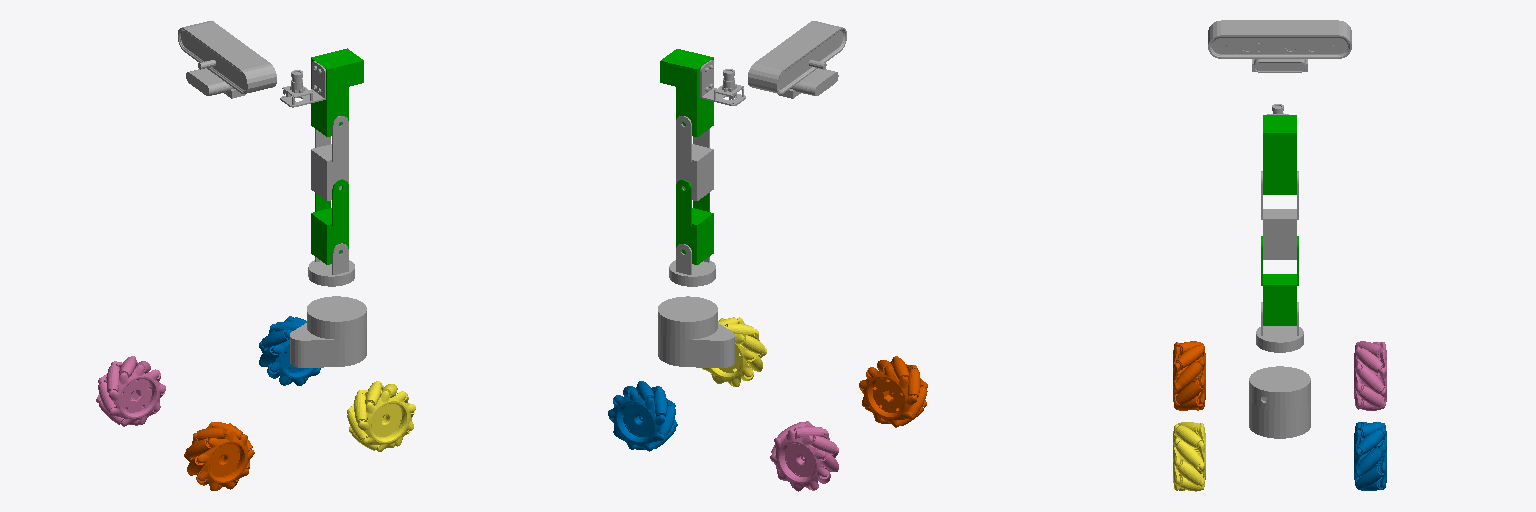
The robot description file, URDF, robot "x3plus":
<?xml version="1.0" encoding="utf-8"?>
   <robot name="x3plus">
    <link name="base_footprint"/>
    <link name="imu_link"/>
    <link name="base_link">
        <inertial>
            <origin xyz="-0.0304416859098744 4.23384368655101E-05 0.0448234503408059" rpy="0 0 0"/>
            <mass value="1.0754239466482"/>
            <inertia
                    ixx="0.0208831789264125"
                    ixy="2.4618093127858E-06"
                    ixz="0.00616019290028669"
                    iyy="0.0265621377486244"
                    iyz="-1.10079499865282E-06"
                    izz="0.0129535610833954"/>
        </inertial>
        <visual>
            <origin xyz="0 0 0" rpy="0 0 0"/>
            <geometry>
                <mesh filename="package://meshes/X3plus/visual/base_link_wo_wheels.obj"/>
            </geometry>
            <material name="">
                <color rgba="0 0.7 0 1"/>
            </material>
        </visual>
        <collision>
          <origin xyz="0 0 0" rpy="0 0 0"/>
          <geometry>
            <box size="0.2942 0.2253 0.4460"/>
          </geometry>
        </collision>

    </link>
    <joint name="base_joint" type="fixed">
        <parent link="base_footprint"/>
        <child link="base_link"/>
        <origin xyz="0.0 0.0 0.076" rpy="0 0 0"/>
    </joint>
    <joint name="base_imu" type="fixed">
        <parent link="base_link"/>
        <child link="imu_link"/>
        <origin xyz="0.001 0.017 0.0322" rpy="0 3.1415 1.5707"/>
    </joint>
    <link name="front_right_wheel">
        <inertial>
            <origin xyz="1.9051E-06 -2.3183E-07 -0.00064079" rpy="0 0 0"/>
            <mass value="0.051532"/>
            <inertia ixx="1.4595E-05" ixy="-4.3975E-10" ixz="4.415E-10"
                     iyy="1.4594E-05" iyz="-1.7476E-09" izz="2.4264E-05"/>
        </inertial>
        <visual>
          <origin xyz="0 0 0" rpy="0 0 0"/>
          <geometry>
            <mesh filename="package://meshes/X3plus/visual/front_right_wheel.obj"/>
          </geometry>
        </visual>
        
        <collision>
          <origin xyz="0 0 0" rpy="0 0 0"/>
          <geometry>
            <box size="0.0799 0.0374 0.0801"/>
          </geometry>
        </collision>
    </link>
    <joint name="front_right_joint" type="fixed">
        <origin xyz="0.10528 -0.10401 -0.038935" rpy="-0 0 0"/>
        <parent link="base_link"/>
        <child link="front_right_wheel"/>
        <axis xyz="0 1 0" rpy="0 0 0"/>
        <limit effort="100" velocity="1"/>
    </joint>
    <link name="front_left_wheel">
        <inertial>
            <origin xyz="2.3728E-06 -9.4228E-07 0.00064068" rpy="0 0 0"/>
            <mass value="0.051543"/>
            <inertia ixx="1.4597E-05" ixy="-4.7945E-10" ixz="-2.4786E-10"
                     iyy="1.4598E-05" iyz="1.7972E-09" izz="2.4267E-05"/>
        </inertial>
        <visual>
          <origin xyz="0 0 0" rpy="0 0 0"/>
          <geometry>
            <mesh filename="package://meshes/X3plus/visual/front_left_wheel.obj"/>
          </geometry>
        </visual>
        
        <collision>
          <origin xyz="0 0 0" rpy="0 0 0"/>
          <geometry>
            <box size="0.0800 0.0374 0.0799"/>
          </geometry>
        </collision>

    </link>
    <joint name="front_left_joint" type="fixed">
        <origin xyz="0.10537 0.10394 -0.0389" rpy="0 0 0"/>
        <parent link="base_link"/>
        <child link="front_left_wheel"/>
        <axis xyz="0 1 0" rpy="0 0 0"/>
        <limit effort="100" velocity="1"/>
    </joint>
    <link name="back_right_wheel">
        <inertial>
            <origin xyz="-1.75924169923403E-06 1.28388821071107E-06 -0.000590549296238266" rpy="0 0 0"/>
            <mass value="0.051540174053366"/>
            <inertia ixx="1.45974152250002E-05" ixy="1.94850559178397E-10" ixz="-1.61846387282284E-09"
                     iyy="1.4596501955693E-05" iyz="-6.27904057423818E-10" izz="2.42663091380451E-05"/>
        </inertial>
        <visual>
          <origin xyz="0 0 0" rpy="0 0 0"/>
          <geometry>
            <mesh filename="package://meshes/X3plus/visual/back_right_wheel.obj"/>
          </geometry>
        </visual>
        
        <collision>
          <origin xyz="0 0 0" rpy="0 0 0"/>
          <geometry>
            <box size="0.0800 0.0374 0.0800"/>
          </geometry>
        </collision>
    </link>
    <joint name="back_right_joint" type="fixed">
        <origin xyz="-0.11466 -0.10394 -0.039515" rpy="0 0 0"/>
        <parent link="base_link"/>
        <child link="back_right_wheel"/>
        <axis xyz="0 1 0" rpy="0 0 0"/>
        <limit effort="100" velocity="1"/>
    </joint>
    <link name="back_left_wheel">
        <inertial>
            <origin xyz="-4.01213085227115E-07 2.04910264598596E-06 0.000590775697051377" rpy="0 0 0"/>
            <mass value="0.0515309299357028"/>
            <inertia ixx="1.45942986129926E-05" ixy="-3.19787215398093E-10" ixz="1.74943062058915E-09"
                     iyy="1.45948727598913E-05" iyz="1.61769812110049E-10" izz="2.4263683888153E-05"/>
        </inertial>
        <visual>
          <origin xyz="0 0 0" rpy="0 0 0"/>
          <geometry>
            <mesh filename="package://meshes/X3plus/visual/back_left_wheel.obj"/>
          </geometry>
        </visual>
        
        <collision>
          <origin xyz="0 0 0" rpy="0 0 0"/>
          <geometry>
            <box size="0.0800 0.0374 0.0800"/>
          </geometry>
        </collision>

    </link>
    <joint name="back_left_joint" type="fixed">
        <origin xyz="-0.11459 0.10401 -0.039448" rpy="0 0 0"/>
        <parent link="base_link"/>
        <child link="back_left_wheel"/>
        <axis xyz="0 1 0" rpy="0 0 0"/>
        <limit effort="100" velocity="1"/>
    </joint>
    <link name="camera_link">
        <inertial>
            <origin xyz="-0.00227617338844674 -6.0192031420306E-06 -0.00616567843043764" rpy="0 0 0"/>
            <mass value="0.224346273348015"/>
            <inertia
                    ixx="0.000420259753235012"
                    ixy="2.65423313072081E-08"
                    ixz="-9.20335513714662E-06"
                    iyy="7.89049803518943E-05"
                    iyz="6.08195761013683E-09"
                    izz="0.000414416844201259"/>
        </inertial>
        <visual>
            <origin xyz="0 0 0" rpy="0 0 0"/>
            <geometry>
                <mesh filename="package://meshes/sensor/visual/camera_link.obj"/>
            </geometry>
            <material name="">
                <color rgba="0.7 0.7 0.7 1"/>
            </material>
        </visual>
        <collision>
          <origin xyz="0 0 0" rpy="0 0 0"/>
          <geometry>
            <box size="0.0602 0.1642 0.0527"/>
          </geometry>
        </collision>
    </link>
    <joint name="astra_joint" type="fixed">
        <origin xyz="-0.043645 0 0.41955" rpy="0 0 0"/>
        <parent link="base_link"/>
        <child link="camera_link"/>
    </joint>
    <link name="laser_link">
        <inertial>
            <origin xyz="-0.0193193958962378 0.000338302570666659 -0.01482422577972" rpy="0 0 0"/>
            <mass value="0.0433399617554554"/>
            <inertia
                    ixx="2.03361882296905E-05"
                    ixy="-3.29493708697467E-07"
                    ixz="-9.00810512916648E-06"
                    iyy="4.37540022779682E-05"
                    iyz="-2.16320544253691E-07"
                    izz="4.81888233320734E-05"/>
        </inertial>
        <visual>
            <origin xyz="0 0 0" rpy="0 0 0"/>
            <geometry>
                <mesh filename="package://meshes/sensor/visual/laser_link.obj"/>
            </geometry>
            <material name="">
                <color rgba="0.7 0.7 0.7 1"/>
            </material>
        </visual>
        <collision>
          <origin xyz="0 0 0" rpy="0 0 0"/>
          <geometry>
            <box size="0.0969 0.0708 0.0586"/>
          </geometry>
        </collision>
    </link>
    <joint name="laser_joint" type="fixed">
        <origin xyz="0.10478 0 0.0471" rpy="0 0 0"/>
        <parent link="base_link"/>
        <child link="laser_link"/>
    </joint>

    <link name="arm_link1">
        <inertial>
            <origin xyz="1.99179507982521E-05 -5.98354652829568E-05 0.0114289358828097" rpy="0 0 0"/>
            <mass value="0.0279545499871709"/>
            <inertia
                    ixx="1.19144359314975E-05"
                    ixy="-9.26068510046816E-09"
                    ixz="3.16060516198683E-09"
                    iyy="1.05642517915377E-05"
                    iyz="2.69674403668579E-08"
                    izz="1.49639510661413E-05"/>
        </inertial>
        <visual>
            <origin xyz="0 0 0" rpy="0 0 0"/>
            <geometry>
                <mesh filename="package://meshes/X3plus/visual/arm_link1.obj"/>
            </geometry>
            <material name="">
                <color rgba="0.7 0.7 0.7 1"/>
            </material>
        </visual>
        <collision>
          <origin xyz="0 0 0" rpy="0 0 0"/>
          <geometry>
            <box size="0.055 0.055 0.051"/>
          </geometry>
        </collision>
    </link>
    <joint name="arm_joint1" type="revolute">
        <origin xyz="0.09825 0 0.102" rpy="0 0 0"/>
        <parent link="base_link"/>
        <child link="arm_link1"/>
        <axis xyz="0 0 -1"/>
        <limit lower="-1.5708" upper="1.5708" effort="100" velocity="1"/>
    </joint>
    <link name="arm_link2">
        <inertial>
            <origin xyz="0.024903 -0.0022632 -0.00066663" rpy="0 0 0"/>
            <mass value="0.031605"/>
            <inertia
                    ixx="5.8495E-06"
                    ixy="-8.8092E-07"
                    ixz="1.5336E-07"
                    iyy="2.667E-05"
                    iyz="7.1365E-09"
                    izz="2.4695E-05"/>
        </inertial>
        <visual>
            <origin xyz="0 0 0" rpy="0 0 0"/>
            <geometry>
                <mesh filename="package://meshes/X3plus/visual/arm_link2.obj"/>
            </geometry>
            <material name="">
                <color rgba="0 0.7 0 1"/>
            </material>
        </visual>
        <collision>
          <origin xyz="0 0 0" rpy="0 0 0"/>
          <geometry>
            <box size="0.030 0.108 0.044"/>
          </geometry>
        </collision>
    </link>
    <joint name="arm_joint2" type="revolute">
        <origin xyz="0 0 0.0405" rpy="-1.5708 0 0"/>
        <parent link="arm_link1"/>
        <child link="arm_link2"/>
        <axis xyz="0 0 -1"/>
        <limit lower="-1.5708" upper="1.5708" effort="100" velocity="1"/>
    </joint>
    <link name="arm_link3">
        <inertial>
            <origin xyz="0.024903 -0.0022634 -0.0013962" rpy="0 0 0"/>
            <mass value="0.031605"/>
            <inertia
                    ixx="5.8492E-06"
                    ixy="-8.8063E-07"
                    ixz="1.4331E-07"
                    iyy="2.667E-05"
                    iyz="8.9675E-09"
                    izz="2.4695E-05"/>
        </inertial>
        <visual>
            <origin xyz="0 0 0" rpy="0 0 0"/>
            <geometry>
                <mesh filename="package://meshes/X3plus/visual/arm_link3.obj"/>
            </geometry>
            <material name="">
                <color rgba="0.7 0.7 0.7 1"/>
            </material>
        </visual>
        <collision>
          <origin xyz="0 0 0" rpy="0 0 0"/>
          <geometry>
            <box size="0.030 0.108 0.044"/>
          </geometry>
        </collision>
    </link>
    <joint name="arm_joint3" type="revolute">
        <origin xyz="0 -0.0829 0" rpy="0 0 0"/>
        <parent link="arm_link2"/>
        <child link="arm_link3"/>
        <axis xyz="0 0 -1"/>
        <limit lower="-1.5708" upper="1.5708" effort="100" velocity="1"/>
    </joint>
    <link name="arm_link4">
        <inertial>
            <origin xyz="0.036246 0.0023413 -0.0019655" rpy="0 0 0"/>
            <mass value="0.049766"/>
            <inertia
                    ixx="1.1857E-05"
                    ixy="-6.5371E-06"
                    ixz="-4.1044E-08"
                    iyy="3.6323E-05"
                    iyz="-1.2132E-07"
                    izz="4.1769E-05"/>
        </inertial>
        <visual>
            <origin xyz="0 0 0" rpy="0 0 0"/>
            <geometry>
                <mesh filename="package://meshes/X3plus/visual/arm_link4.obj"/>
            </geometry>
            <material name="">
                <color rgba="0 0.7 0 1"/>
            </material>
        </visual>
        <collision>
          <origin xyz="0 0 0" rpy="0 0 0"/>
          <geometry>
            <box size="0.050 0.088 0.040"/>
          </geometry>
        </collision>
    </link>
    <joint name="arm_joint4" type="revolute">
        <origin xyz="0 -0.0829 0" rpy="0 0 0"/>
        <parent link="arm_link3"/>
        <child link="arm_link4"/>
        <axis xyz="0 0 -1"/>
        <limit lower="-1.5708" upper="1.5708" effort="100" velocity="1"/>
    </joint>
    <link name="arm_link5">
        <inertial>
            <origin xyz="0.0023228 0.018169 0.028684" rpy="0 0 0"/>
            <mass value="0.04069"/>
            <inertia
                    ixx="1.0627E-05"
                    ixy="-3.0402E-07"
                    ixz="-1.9524E-07"
                    iyy="9.6306E-06"
                    iyz="-1.3265E-06"
                    izz="1.3298E-05"/>
        </inertial>
        <visual>
            <origin xyz="0 0 0" rpy="0 0 0"/>
            <geometry>
                <mesh filename="package://meshes/X3plus/visual/arm_link5.obj"/>
            </geometry>
            <material name="">
                <color rgba="0.7 0.7 0.7 1"/>
            </material>
        </visual>
        <collision>
          <origin xyz="0 0 0" rpy="0 0 0"/>
          <geometry>
            <box size="0.056 0.055 0.055"/>
          </geometry>
        </collision>
    </link>
    <joint name="arm_joint5" type="revolute">
        <origin xyz="-0.00215 -0.17455 0" rpy="1.5708 0 0"/>
        <parent link="arm_link4"/>
        <child link="arm_link5"/>
        <axis xyz="0 0 1"/>
        <limit lower="-1.5708" upper="3.14159" effort="100" velocity="1"/>
    </joint>
    <link name="mono_link">
        <inertial>
            <origin xyz="5.8458E-05 0.0095015 -0.0014824" rpy="0 0 0"/>
            <mass value="0.0097589"/>
            <inertia ixx="3.3488E-06" ixy="1.3667E-08" ixz="6.4235E-09" iyy="1.8662E-06" iyz="-1.0265E-07"
                     izz="2.5696E-06"/>
        </inertial>
        <visual>
            <origin xyz="0 0 0" rpy="0 0 0"/>
            <geometry>
                <mesh filename="package://meshes/sensor/visual/mono_link.obj"/>
            </geometry>
            <material name="">
                <color rgba="0.7 0.7 0.7 1"/>
            </material>
        </visual>
        <collision>
          <origin xyz="0 0 0" rpy="0 0 0"/>
          <geometry>
            <box size="0.0492 0.0300 0.0407"/>
          </geometry>
        </collision>
    </link>
    <joint name="mono_joint" type="fixed">
        <origin xyz="-0.0481 -0.05145 -0.0022" rpy="1.5708 0 0"/>
        <parent link="arm_link4"/>
        <child link="mono_link"/>
    </joint>
</robot>

--- What the picture shows (computed from the rendered views, not written in the file) ---
The picture shows the robot from 3 angles, left to right: view 1: azimuth 30°, elevation 25°; view 2: azimuth 150°, elevation 25°; view 3: azimuth 270°, elevation 25°; orthographic projection.
Robot: x3plus — 15 links, 14 joints (5 revolute, 9 fixed); root link base_footprint; default pose: all joints at 0.
Visible links, largest first — view 1: camera_link, laser_link, back_left_wheel, front_right_wheel, back_right_wheel, arm_link4, arm_link3, arm_link2, front_left_wheel, arm_link1, mono_link; view 2: camera_link, laser_link, front_left_wheel, back_right_wheel, back_left_wheel, arm_link4, arm_link2, arm_link3, front_right_wheel, arm_link1, mono_link; view 3: camera_link, laser_link, arm_link4, back_right_wheel, front_right_wheel, back_left_wheel, front_left_wheel, arm_link2, arm_link3, arm_link1.
Boxes of the visible links, x1,y1,x2,y2 form: camera_link: (178, 21, 276, 98); laser_link: (290, 296, 366, 367); back_left_wheel: (96, 356, 165, 426); front_right_wheel: (347, 381, 415, 451); back_right_wheel: (184, 422, 254, 490); arm_link4: (311, 48, 363, 136); arm_link3: (311, 116, 348, 200); arm_link2: (311, 179, 348, 264); front_left_wheel: (259, 316, 320, 385); arm_link1: (308, 243, 354, 286); mono_link: (280, 61, 325, 107); camera_link: (748, 21, 846, 98); laser_link: (658, 296, 734, 367); front_left_wheel: (608, 381, 677, 451); back_right_wheel: (859, 356, 927, 427); back_left_wheel: (770, 421, 838, 491); arm_link4: (660, 49, 713, 136); arm_link2: (676, 179, 713, 264); arm_link3: (676, 116, 713, 200); front_right_wheel: (702, 317, 766, 386); arm_link1: (669, 244, 715, 286); mono_link: (700, 60, 745, 105); camera_link: (1208, 20, 1351, 72); laser_link: (1249, 366, 1310, 438); arm_link4: (1263, 115, 1296, 194); back_right_wheel: (1173, 341, 1205, 410); front_right_wheel: (1173, 422, 1205, 491); back_left_wheel: (1354, 341, 1386, 410); front_left_wheel: (1354, 422, 1386, 490); arm_link2: (1261, 236, 1298, 325); arm_link3: (1261, 171, 1298, 259); arm_link1: (1256, 302, 1303, 352).
Bounding box of the posed robot: 0.3 × 0.2456 × 0.5142 m (x, y, z).
Meshes: 13 distinct files referenced, 11 mesh visuals loaded (11 OBJ); not drawn: 2 (reference not matched to a file when rendering).
